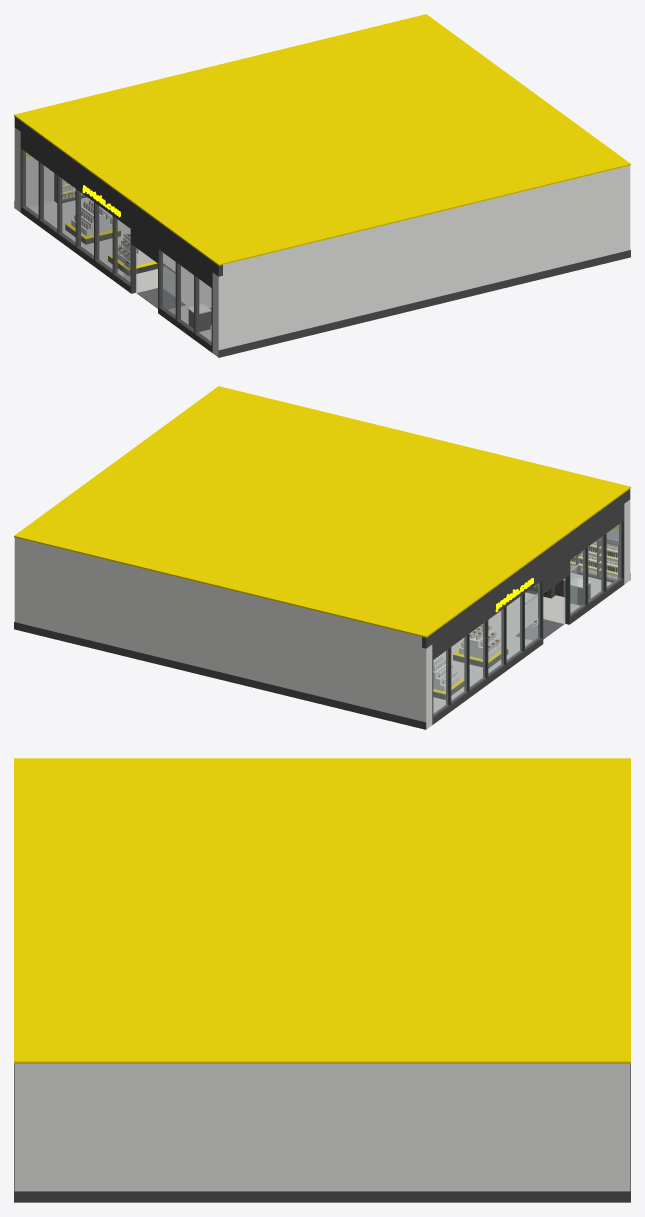
The model's file is protein_store_v2.glb.
The picture shows the model from 3 angles, top to bottom: view 1: azimuth 30°, elevation 25°; view 2: azimuth 150°, elevation 25°; view 3: azimuth 270°, elevation 25°; orthographic projection. The views are drawn at different scales.
Parts seen in each view (by area): view 1: Exterior_Trim, Solid_Walls, Solid_Storefront, Storefront_Glass, Floor_Tiles, Door_Leaves, Solid_Promo_1, Solid_Promo_0, Products_Promo; view 2: Exterior_Trim, Solid_Walls, Solid_Storefront, Storefront_Glass, Floor_Tiles, Door_Leaves, Solid_Promo_0, Products_Promo, Solid_WallBay_C0, Solid_Promo_1, Solid_Counter; view 3: Exterior_Trim, Solid_Walls.
Boxes of the visible parts, bbox=[...] form: Exterior_Trim: bbox=[14, 14, 630, 357]; Solid_Walls: bbox=[26, 152, 630, 349]; Solid_Storefront: bbox=[14, 117, 222, 357]; Storefront_Glass: bbox=[23, 151, 211, 343]; Floor_Tiles: bbox=[28, 197, 211, 341]; Door_Leaves: bbox=[123, 234, 175, 314]; Solid_Promo_1: bbox=[65, 206, 120, 244]; Solid_Promo_0: bbox=[108, 237, 163, 275]; Products_Promo: bbox=[74, 200, 136, 260]; Exterior_Trim: bbox=[14, 386, 630, 729]; Solid_Walls: bbox=[14, 524, 618, 721]; Solid_Storefront: bbox=[422, 489, 630, 729]; Storefront_Glass: bbox=[433, 523, 621, 715]; Floor_Tiles: bbox=[433, 573, 611, 713]; Door_Leaves: bbox=[525, 565, 577, 645]; Solid_Promo_0: bbox=[453, 630, 508, 668]; Products_Promo: bbox=[433, 625, 500, 684]; Solid_WallBay_C0: bbox=[597, 538, 618, 582]; Solid_Promo_1: bbox=[433, 664, 464, 699]; Solid_Counter: bbox=[526, 578, 591, 605]; Exterior_Trim: bbox=[14, 758, 630, 1202]; Solid_Walls: bbox=[14, 1064, 630, 1191].
Size of the model in its own units: 23.5 by 5.08 by 20.14.
17 materials, 3 textured.
